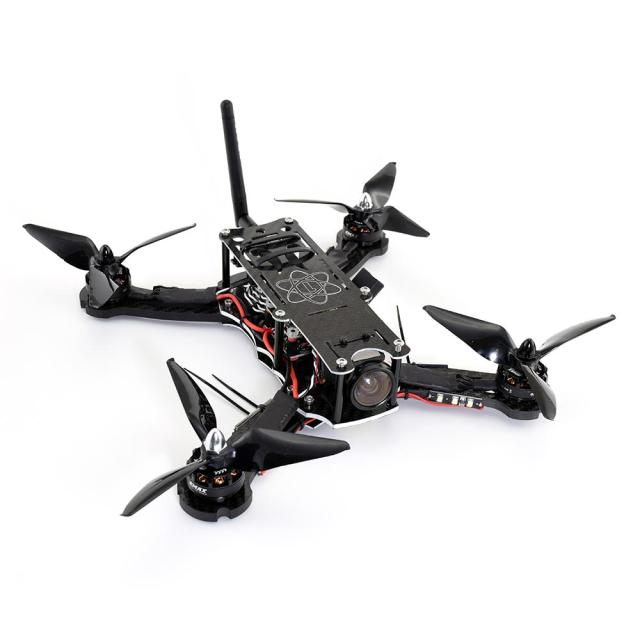drone: (44, 157, 601, 526)
